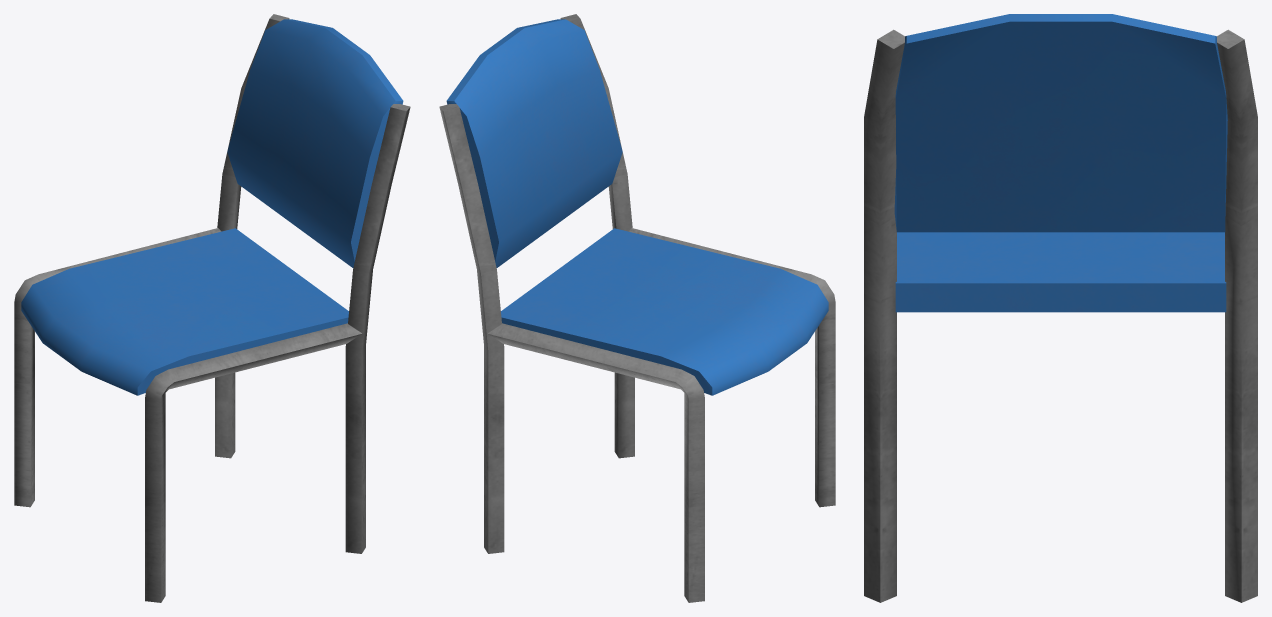
Rendered from ChairMed.fbx.
3 renders of one model, left to right at view 1: azimuth 30°, elevation 25°; view 2: azimuth 150°, elevation 25°; view 3: azimuth 270°, elevation 25°, orthographic. The views are drawn at different scales.
Parts seen in each view (by area): view 1: Chair; view 2: Chair; view 3: Chair.
Boxes of the visible parts, x1=… form: Chair: x1=14, y1=14, x2=410, y2=602; Chair: x1=439, y1=14, x2=835, y2=602; Chair: x1=864, y1=14, x2=1257, y2=602.
Size of the model in its own units: 79.61 by 118 by 67.93.
